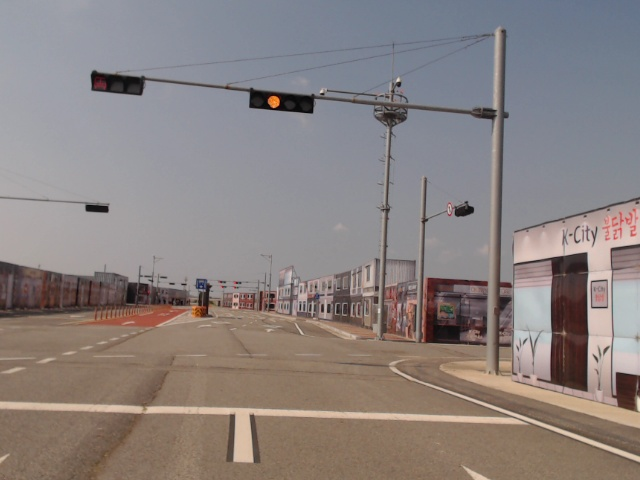orange_4: (249, 89, 313, 116)
